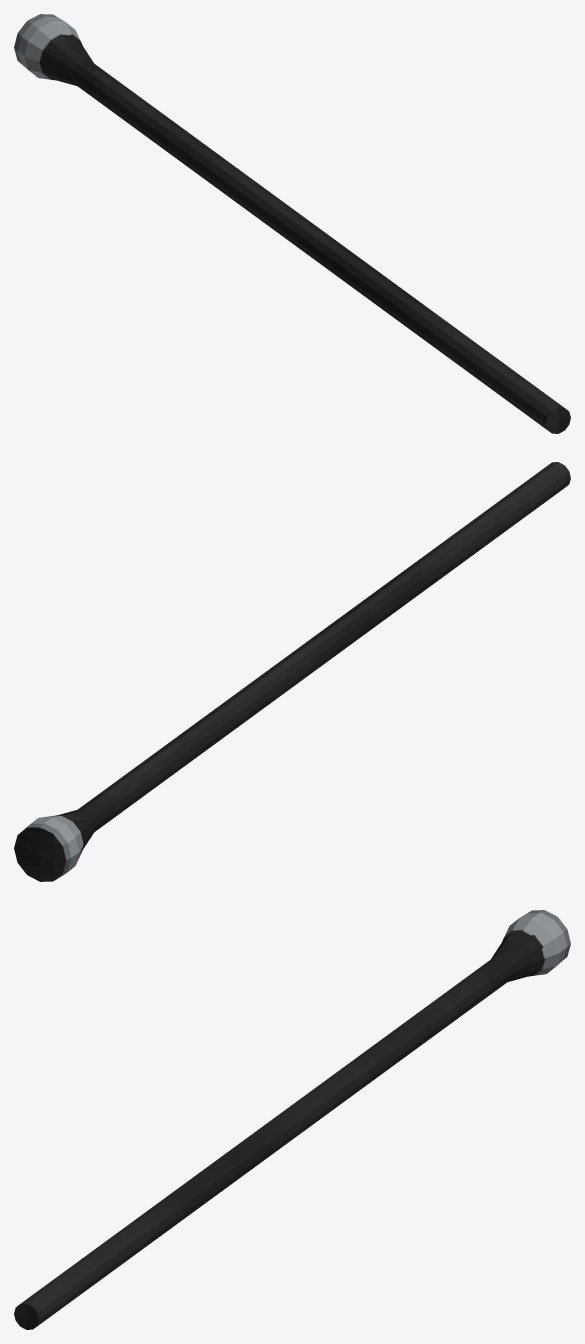
File: pz_street_pole_17.obj
3 views of the same model, one above another, from view 1: azimuth 30°, elevation 25°; view 2: azimuth 150°, elevation 25°; view 3: azimuth 330°, elevation 25° (orthographic).
Visible parts, largest first — view 1: pz_street_pole_17_|_tapered_native_street_pole; view 2: pz_street_pole_17_|_tapered_native_street_pole; view 3: pz_street_pole_17_|_tapered_native_street_pole.
Part boxes in pixels (<box>): pz_street_pole_17_|_tapered_native_street_pole: <box>14,14,570,433</box>; pz_street_pole_17_|_tapered_native_street_pole: <box>14,462,570,881</box>; pz_street_pole_17_|_tapered_native_street_pole: <box>14,910,570,1329</box>.
Size of the model in its own units: 0.148 by 0.148 by 2.43.
Materials: 1 (1 with a texture image).
